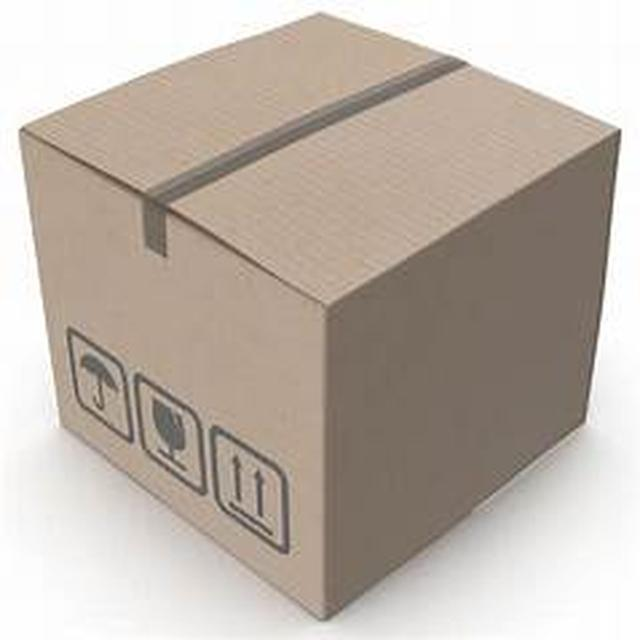box: (84, 28, 640, 594)
